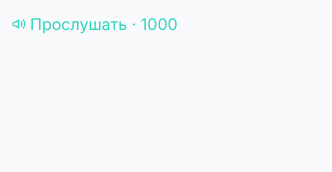
Test: плеер ответа › повторное нажатие на звучащий ответ останавливает его
The width and height of the screenshot is (332, 172).
Step 1. Click the button "Прослушать · 1000" → point(95, 24), box x1=12 y1=12 x2=178 y2=36
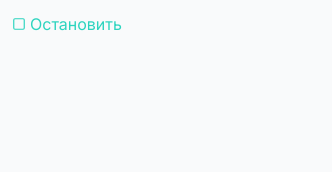
expect the button "Остановить" is shown: met
Step 2. Click the button "Остановить" → point(67, 24), box x1=12 y1=12 x2=122 y2=36
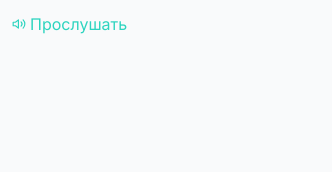
expect the button "Прослушать" is shown: met, box x1=12 y1=12 x2=127 y2=36
